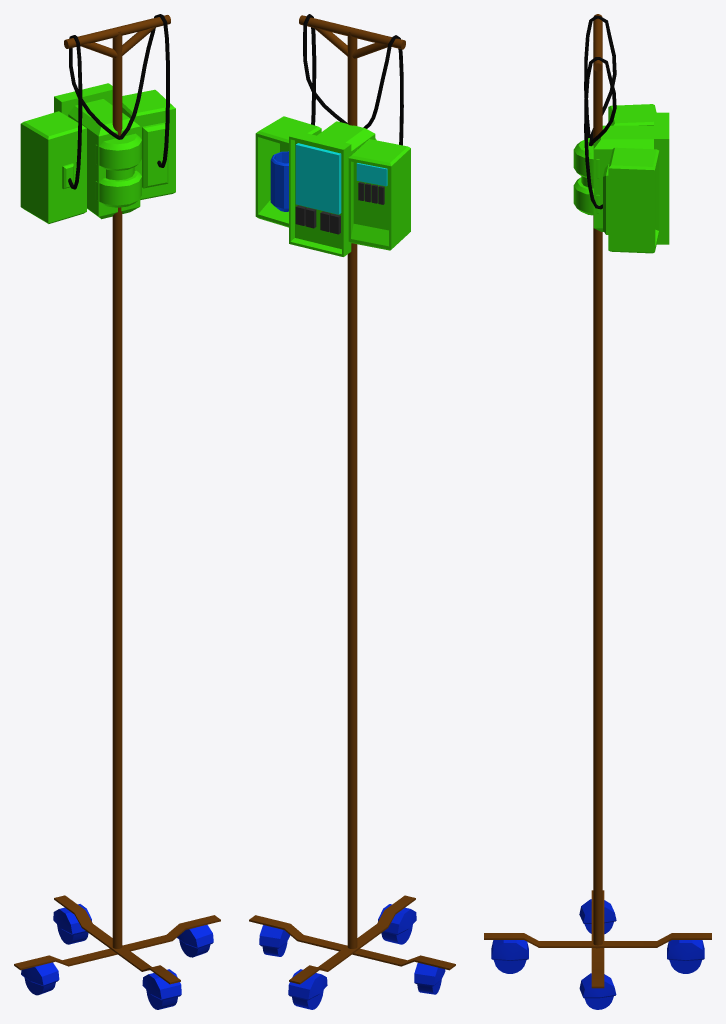
The model's file is Mobile_console.fbx.
3 renders of one model, left to right at view 1: azimuth 30°, elevation 25°; view 2: azimuth 150°, elevation 25°; view 3: azimuth 270°, elevation 25°, orthographic.
Parts seen in each view (by area): view 1: Mobile_Console1; view 2: Mobile_Console1; view 3: Mobile_Console1.
Part boxes in pixels (x1,y1,x2,y2): Mobile_Console1: (14,14,220,1009); Mobile_Console1: (249,14,455,1009); Mobile_Console1: (484,14,711,1009).
Bounding box in the file's own units: 0.4542 × 2.05 × 0.4542.
